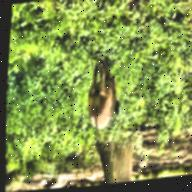boar: (55, 59, 132, 155)
